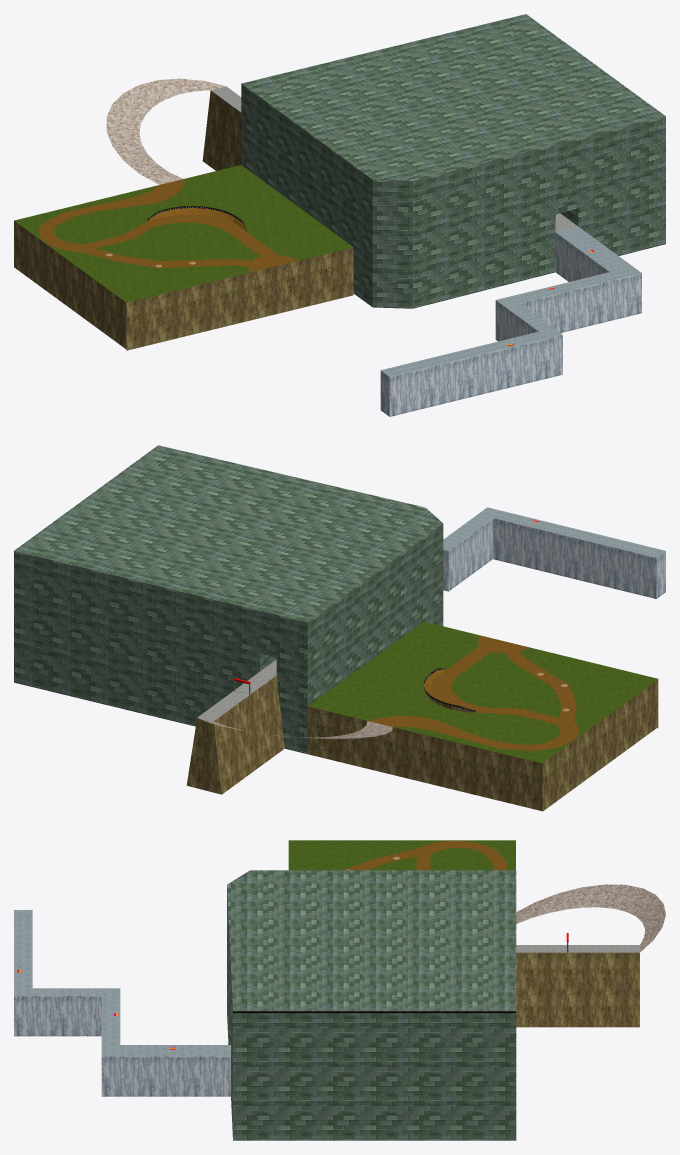
The picture shows the model from 3 angles, top to bottom: view 1: azimuth 30°, elevation 25°; view 2: azimuth 150°, elevation 25°; view 3: azimuth 270°, elevation 25°; orthographic projection. The views are drawn at different scales.
Parts seen in each view (by area): view 1: Icy_Vulcan_Valley-SKP--mat6.001_Icy_Vulcan_Valley-SKP--mat6., Icy_Vulcan_Valley-SKP--mat3_Icy_Vulcan_Valley-SKP--mat3_mat3, Icy_Vulcan_Valley-SKP--mat5.001_Icy_Vulcan_Valley-SKP--mat5., Icy_Vulcan_Valley-SKP--mat4_Icy_Vulcan_Valley-SKP--mat4_mat4, Icy_Vulcan_Valley-SKP--mat7.001_Icy_Vulcan_Valley-SKP--mat7., Icy_Vulcan_Valley-SKP--mat9.001_Icy_Vulcan_Valley-SKP--mat9., Icy_Vulcan_Valley-SKP--mat10_Icy_Vulcan_Valley-SKP--mat10_ma, Icy_Vulcan_Valley-SKP--mat13_Icy_Vulcan_Valley-SKP--mat13_ma; view 2: Icy_Vulcan_Valley-SKP--mat6.001_Icy_Vulcan_Valley-SKP--mat6., Icy_Vulcan_Valley-SKP--mat5.001_Icy_Vulcan_Valley-SKP--mat5., Icy_Vulcan_Valley-SKP--mat3_Icy_Vulcan_Valley-SKP--mat3_mat3, Icy_Vulcan_Valley-SKP--mat4_Icy_Vulcan_Valley-SKP--mat4_mat4, Icy_Vulcan_Valley-SKP--mat7.001_Icy_Vulcan_Valley-SKP--mat7., Icy_Vulcan_Valley-SKP--mat9.001_Icy_Vulcan_Valley-SKP--mat9., Icy_Vulcan_Valley-SKP--mat13_Icy_Vulcan_Valley-SKP--mat13_ma, Icy_Vulcan_Valley-SKP--mat10_Icy_Vulcan_Valley-SKP--mat10_ma; view 3: Icy_Vulcan_Valley-SKP--mat6.001_Icy_Vulcan_Valley-SKP--mat6., Icy_Vulcan_Valley-SKP--mat5.001_Icy_Vulcan_Valley-SKP--mat5., Icy_Vulcan_Valley-SKP--mat4_Icy_Vulcan_Valley-SKP--mat4_mat4, Icy_Vulcan_Valley-SKP--mat3_Icy_Vulcan_Valley-SKP--mat3_mat3, Icy_Vulcan_Valley-SKP--mat9.001_Icy_Vulcan_Valley-SKP--mat9., Icy_Vulcan_Valley-SKP--mat10_Icy_Vulcan_Valley-SKP--mat10_ma, Icy_Vulcan_Valley-SKP--mat7.001_Icy_Vulcan_Valley-SKP--mat7., Icy_Vulcan_Valley-SKP--mat13_Icy_Vulcan_Valley-SKP--mat13_ma, Icy_Vulcan_Valley-SKP--mat1_Icy_Vulcan_Valley-SKP--mat1_mat1.
Part boxes in pixels (box(x1,y1,x2,y2)): Icy_Vulcan_Valley-SKP--mat6.001_Icy_Vulcan_Valley-SKP--mat6.: box(241, 14, 665, 308); Icy_Vulcan_Valley-SKP--mat3_Icy_Vulcan_Valley-SKP--mat3_mat3: box(14, 165, 353, 302); Icy_Vulcan_Valley-SKP--mat5.001_Icy_Vulcan_Valley-SKP--mat5.: box(14, 90, 353, 350); Icy_Vulcan_Valley-SKP--mat4_Icy_Vulcan_Valley-SKP--mat4_mat4: box(380, 232, 641, 416); Icy_Vulcan_Valley-SKP--mat7.001_Icy_Vulcan_Valley-SKP--mat7.: box(38, 179, 297, 271); Icy_Vulcan_Valley-SKP--mat9.001_Icy_Vulcan_Valley-SKP--mat9.: box(381, 226, 641, 376); Icy_Vulcan_Valley-SKP--mat10_Icy_Vulcan_Valley-SKP--mat10_ma: box(106, 78, 225, 184); Icy_Vulcan_Valley-SKP--mat13_Icy_Vulcan_Valley-SKP--mat13_ma: box(211, 86, 577, 231); Icy_Vulcan_Valley-SKP--mat6.001_Icy_Vulcan_Valley-SKP--mat6.: box(14, 445, 443, 753); Icy_Vulcan_Valley-SKP--mat5.001_Icy_Vulcan_Valley-SKP--mat5.: box(186, 675, 658, 811); Icy_Vulcan_Valley-SKP--mat3_Icy_Vulcan_Valley-SKP--mat3_mat3: box(308, 621, 657, 763); Icy_Vulcan_Valley-SKP--mat4_Icy_Vulcan_Valley-SKP--mat4_mat4: box(443, 518, 665, 598); Icy_Vulcan_Valley-SKP--mat7.001_Icy_Vulcan_Valley-SKP--mat7.: box(368, 635, 578, 750); Icy_Vulcan_Valley-SKP--mat9.001_Icy_Vulcan_Valley-SKP--mat9.: box(443, 507, 665, 557); Icy_Vulcan_Valley-SKP--mat13_Icy_Vulcan_Valley-SKP--mat13_ma: box(197, 659, 276, 721); Icy_Vulcan_Valley-SKP--mat10_Icy_Vulcan_Valley-SKP--mat10_ma: box(198, 718, 392, 738); Icy_Vulcan_Valley-SKP--mat6.001_Icy_Vulcan_Valley-SKP--mat6.: box(227, 870, 568, 1140); Icy_Vulcan_Valley-SKP--mat5.001_Icy_Vulcan_Valley-SKP--mat5.: box(516, 952, 639, 1027); Icy_Vulcan_Valley-SKP--mat4_Icy_Vulcan_Valley-SKP--mat4_mat4: box(14, 995, 230, 1096); Icy_Vulcan_Valley-SKP--mat3_Icy_Vulcan_Valley-SKP--mat3_mat3: box(288, 840, 515, 870); Icy_Vulcan_Valley-SKP--mat9.001_Icy_Vulcan_Valley-SKP--mat9.: box(14, 910, 230, 1056); Icy_Vulcan_Valley-SKP--mat10_Icy_Vulcan_Valley-SKP--mat10_ma: box(516, 884, 665, 952); Icy_Vulcan_Valley-SKP--mat7.001_Icy_Vulcan_Valley-SKP--mat7.: box(344, 841, 507, 870); Icy_Vulcan_Valley-SKP--mat13_Icy_Vulcan_Valley-SKP--mat13_ma: box(230, 945, 639, 1055); Icy_Vulcan_Valley-SKP--mat1_Icy_Vulcan_Valley-SKP--mat1_mat1: box(233, 1011, 516, 1012).
Size of what is drawn, in the model's own units: 139625 by 33727 by 151861.
Materials: 14 (14 with a texture image).
